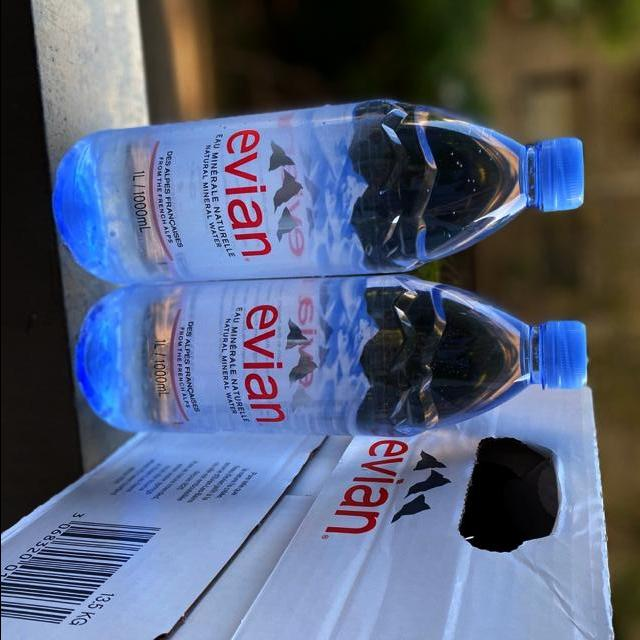cap: (527, 133, 584, 215), (535, 316, 589, 396)
label: (163, 104, 305, 278), (176, 278, 315, 438)
not-crumbled: (44, 96, 592, 274), (64, 276, 594, 442)
